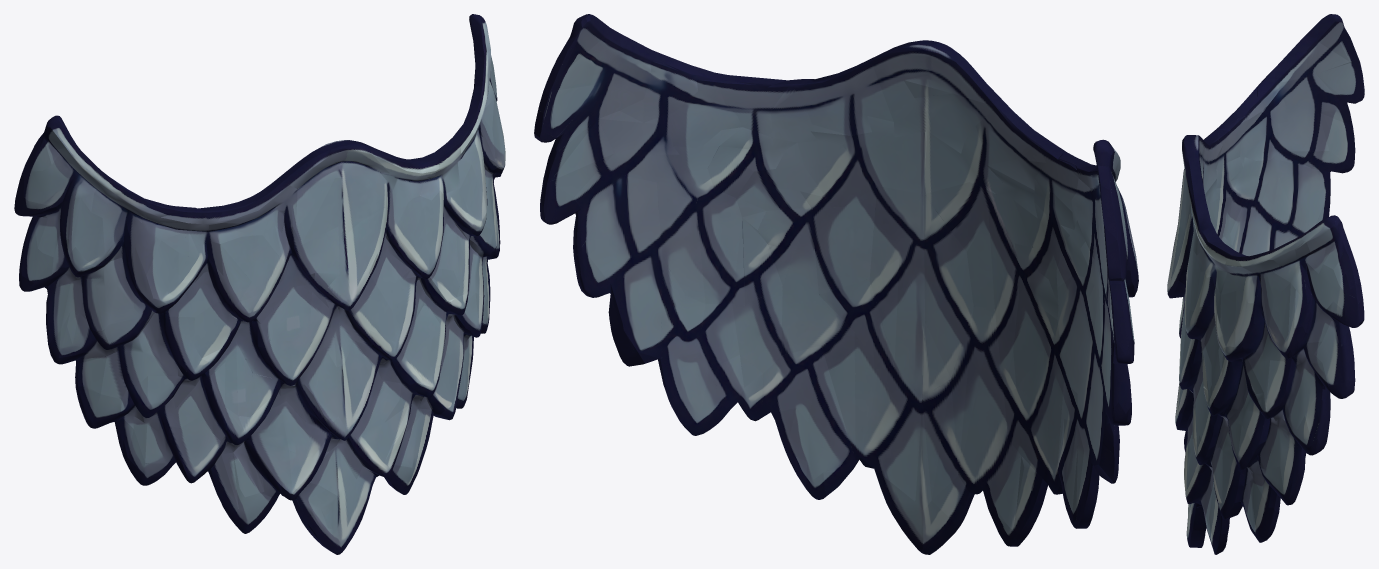
File: nerith_m-masque-4-ecailles.glb
3 renders of one model, left to right at view 1: azimuth 30°, elevation 25°; view 2: azimuth 150°, elevation 25°; view 3: azimuth 270°, elevation 25°, orthographic. The views are drawn at different scales.
Parts seen in each view (by area): view 1: geometry_0; view 2: geometry_0; view 3: geometry_0.
Boxes of the visible parts, left/top/right/bottom form: geometry_0: left=14, top=14, right=505, bottom=554; geometry_0: left=534, top=14, right=1138, bottom=554; geometry_0: left=1167, top=14, right=1364, bottom=554.
Bounding box in the file's own units: 1.9 × 1.65 × 0.6842.
1 material, 1 textured.
